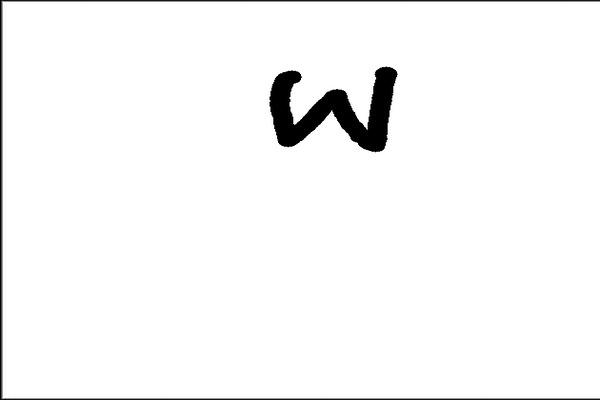w: (256, 56, 402, 163)
